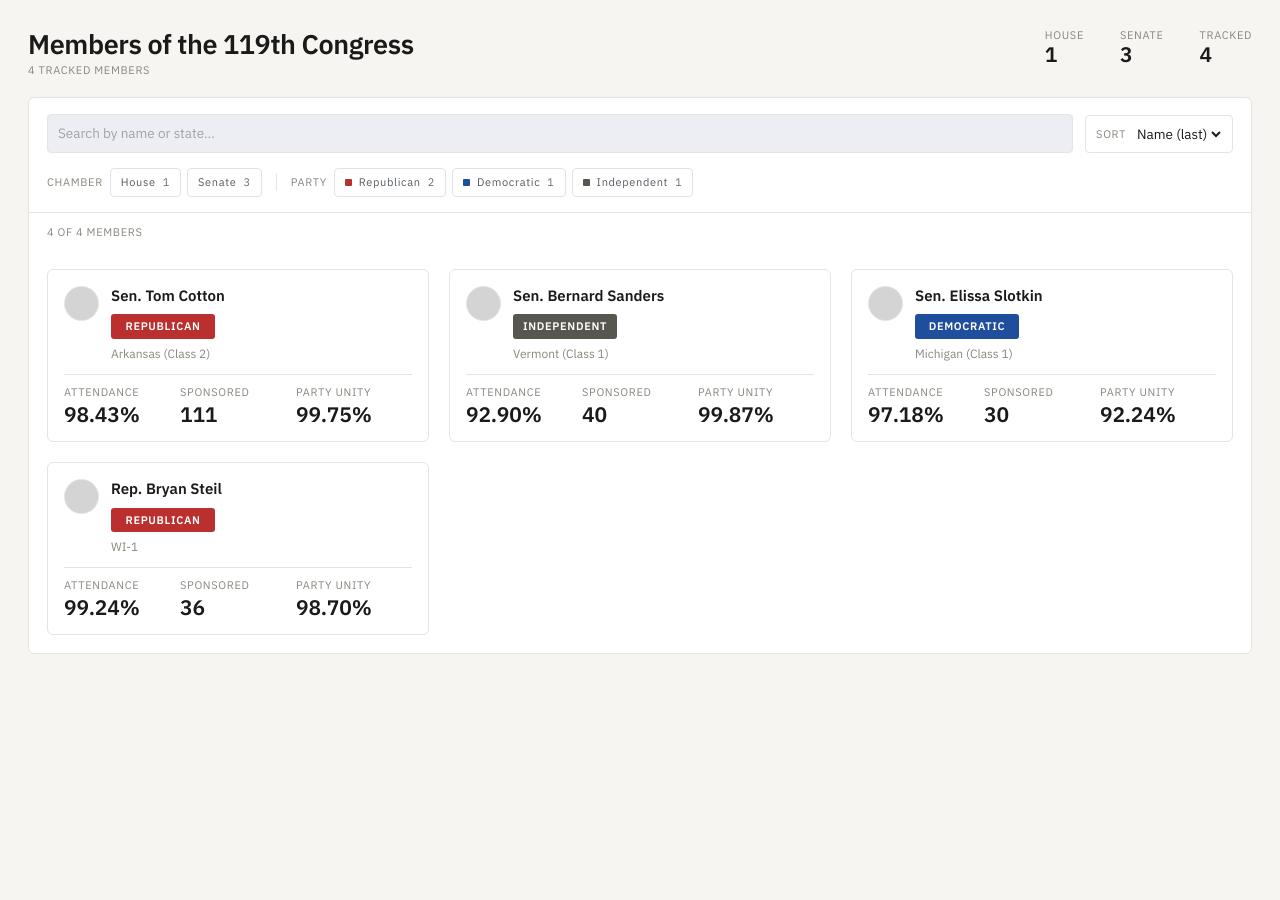
members index › with Democrats and an Independent present, every party chip is enabled and filters
The width and height of the screenshot is (1280, 900).
Expected: the button "Democratic 1" is enabled, [452,168,566,197]
Expected: the button "Independent 1" is enabled, [572,168,693,197]
Click the button "Republican 2": (390, 182) [334,168,446,197]
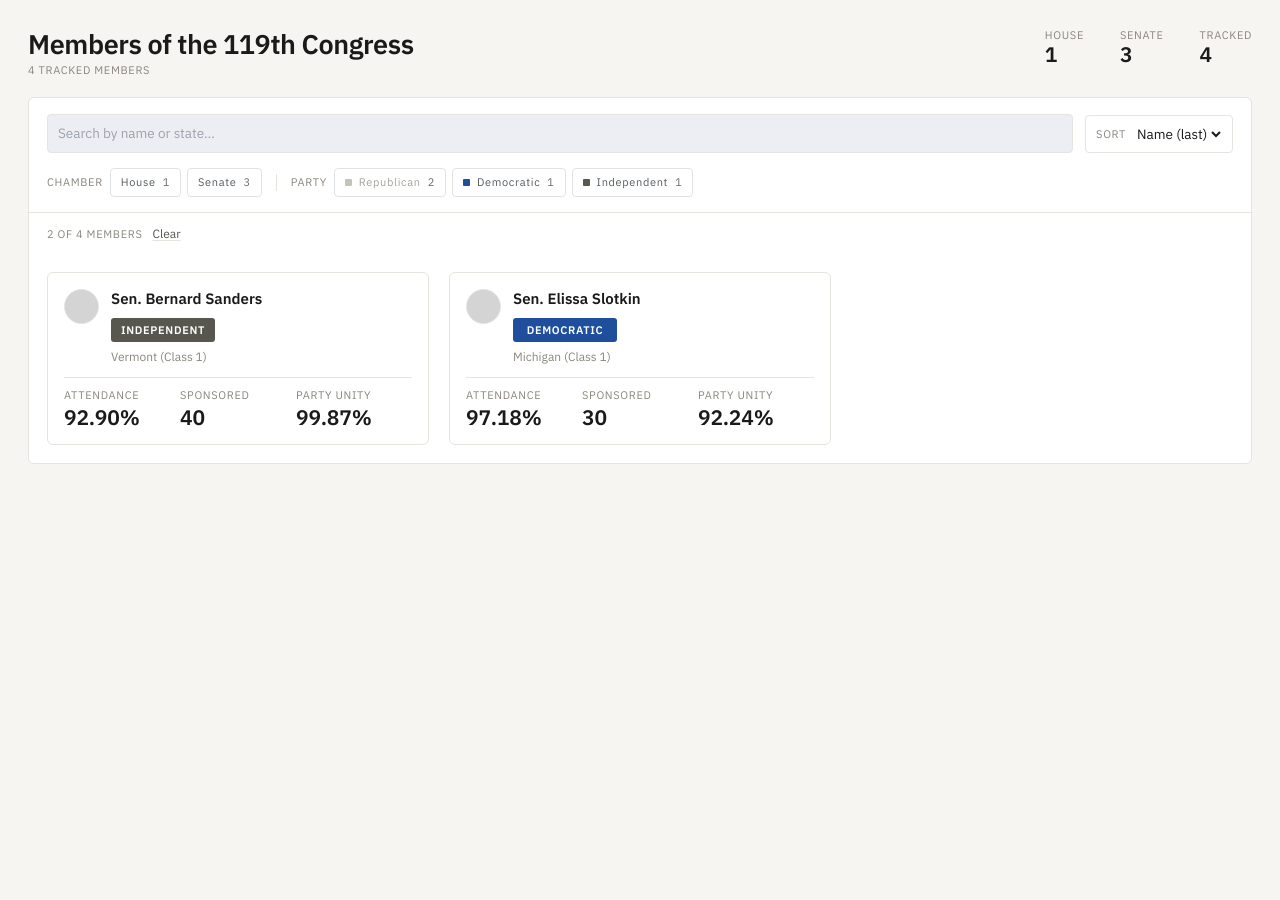
Click the button "Democratic 1": (509, 182) [452,168,566,197]
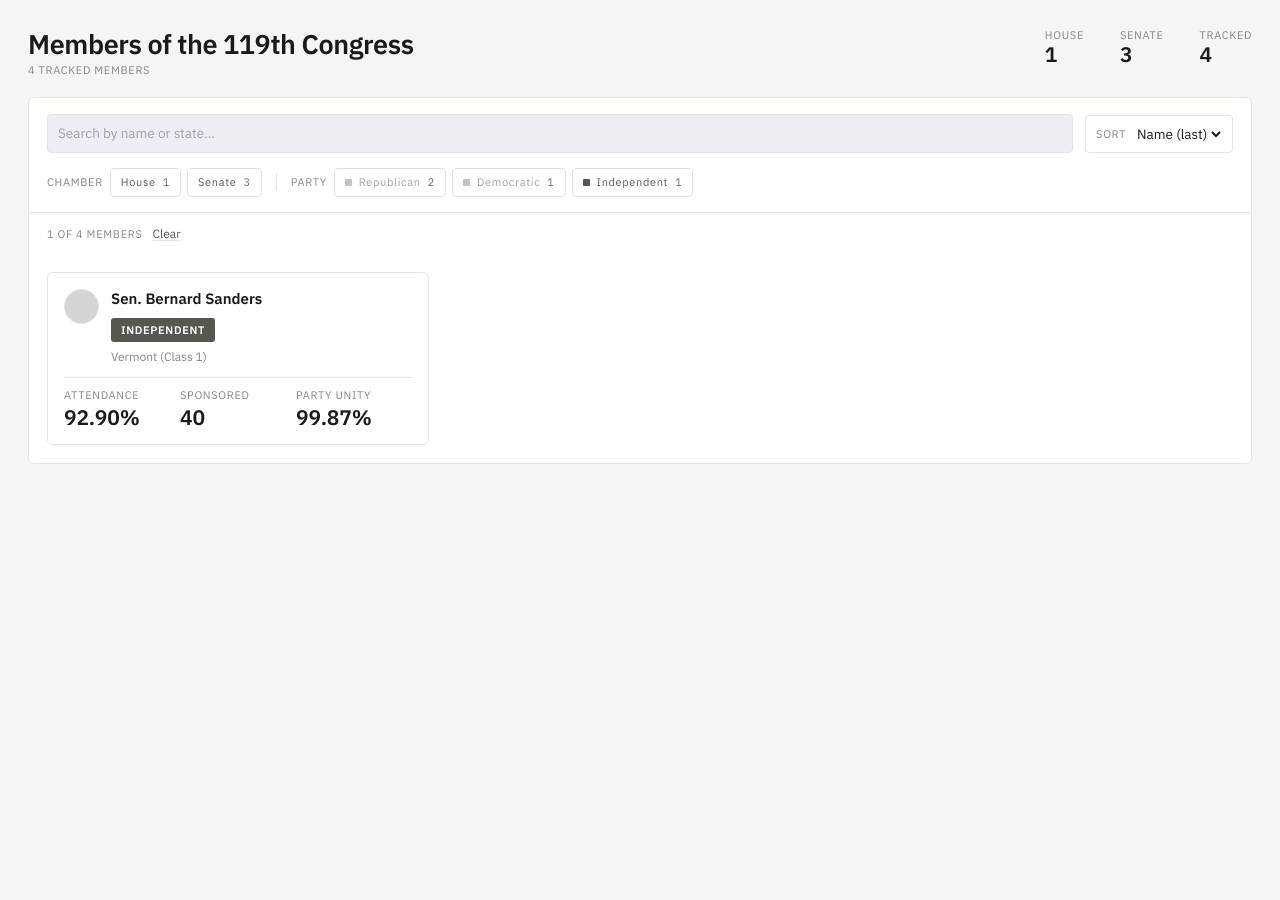
Expected: the link "Sen. Bernard Sanders" is shown, [47,272,429,445]
Now the text "1 of 4 members" is shown, box [47,227,142,241]
